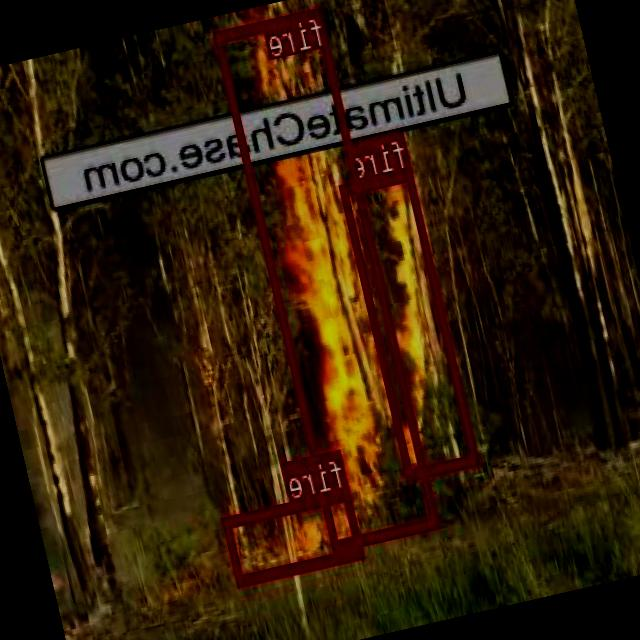fire: (214, 6, 441, 548), (340, 167, 480, 478), (222, 486, 364, 584)
